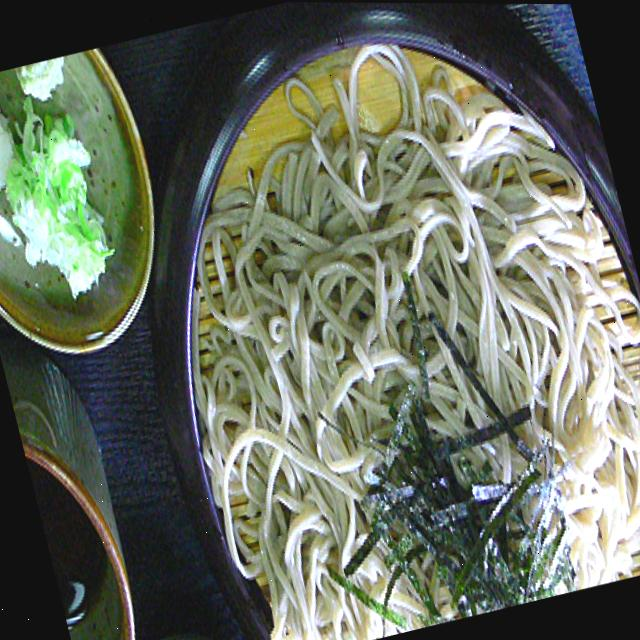面条主食: (83, 0, 640, 640)
